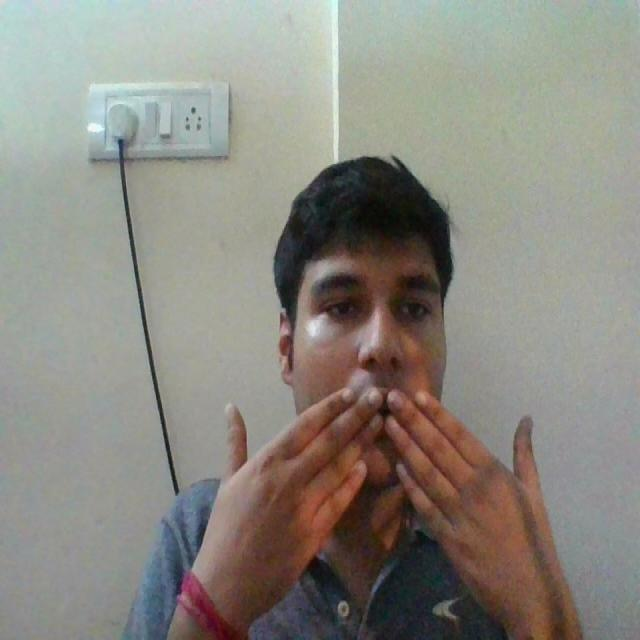Thanks: (157, 396, 640, 640)
